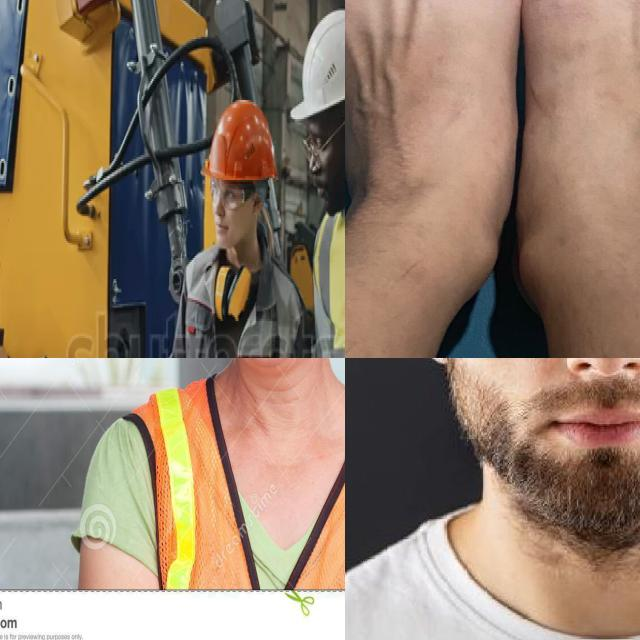Barefoots: (345, 0, 640, 306)
Ear-protection: (212, 246, 253, 333)
face_nomask: (447, 358, 640, 552)
glasses: (295, 124, 343, 170), (206, 179, 254, 211)
head_helmet: (205, 96, 283, 184), (289, 8, 345, 123)
person: (69, 358, 345, 585), (152, 93, 306, 358)
vest: (106, 358, 345, 603)
